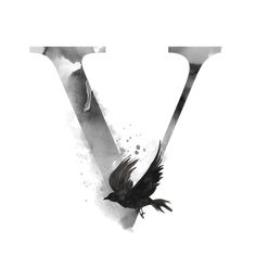v: (22, 34, 238, 236)
